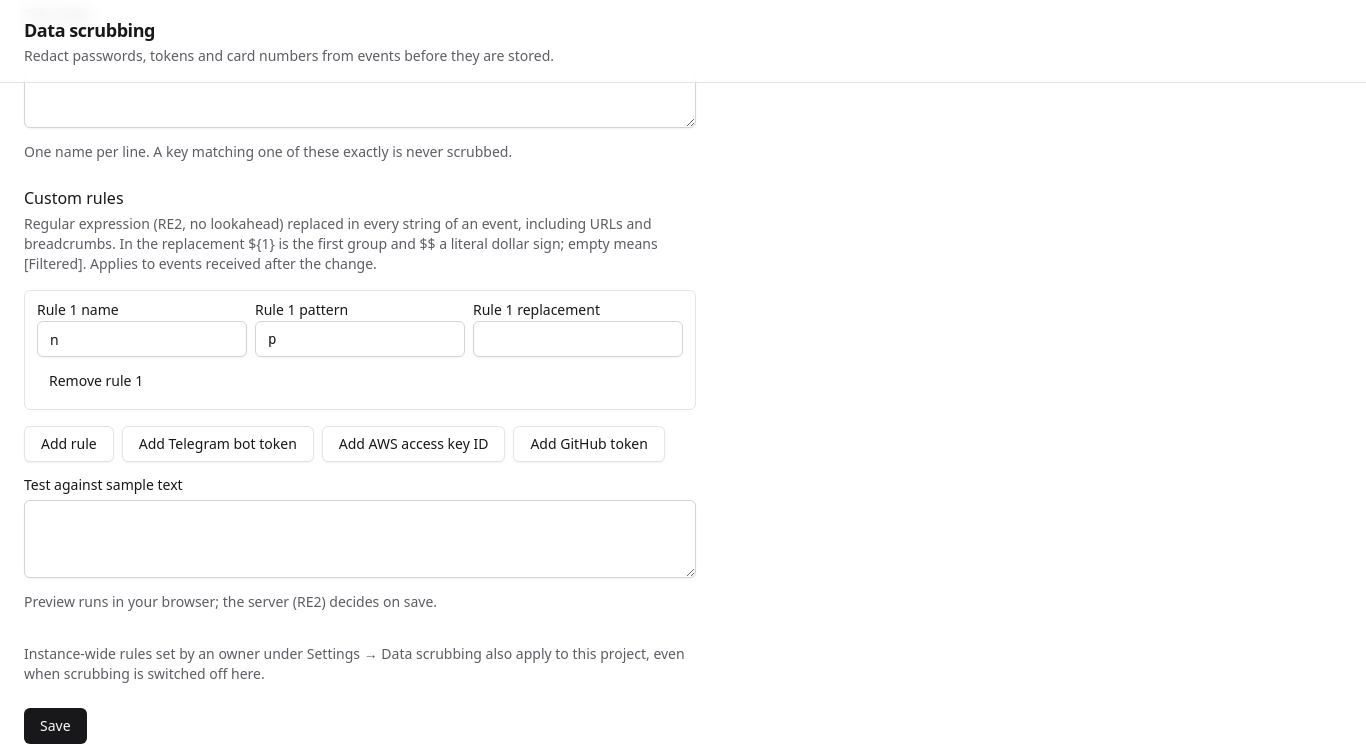
Test: DataScrubbingPage › clears Saved. once a rule is edited
(page scrolled)
Click the button "Save" at (55, 726), box [24, 708, 87, 744]
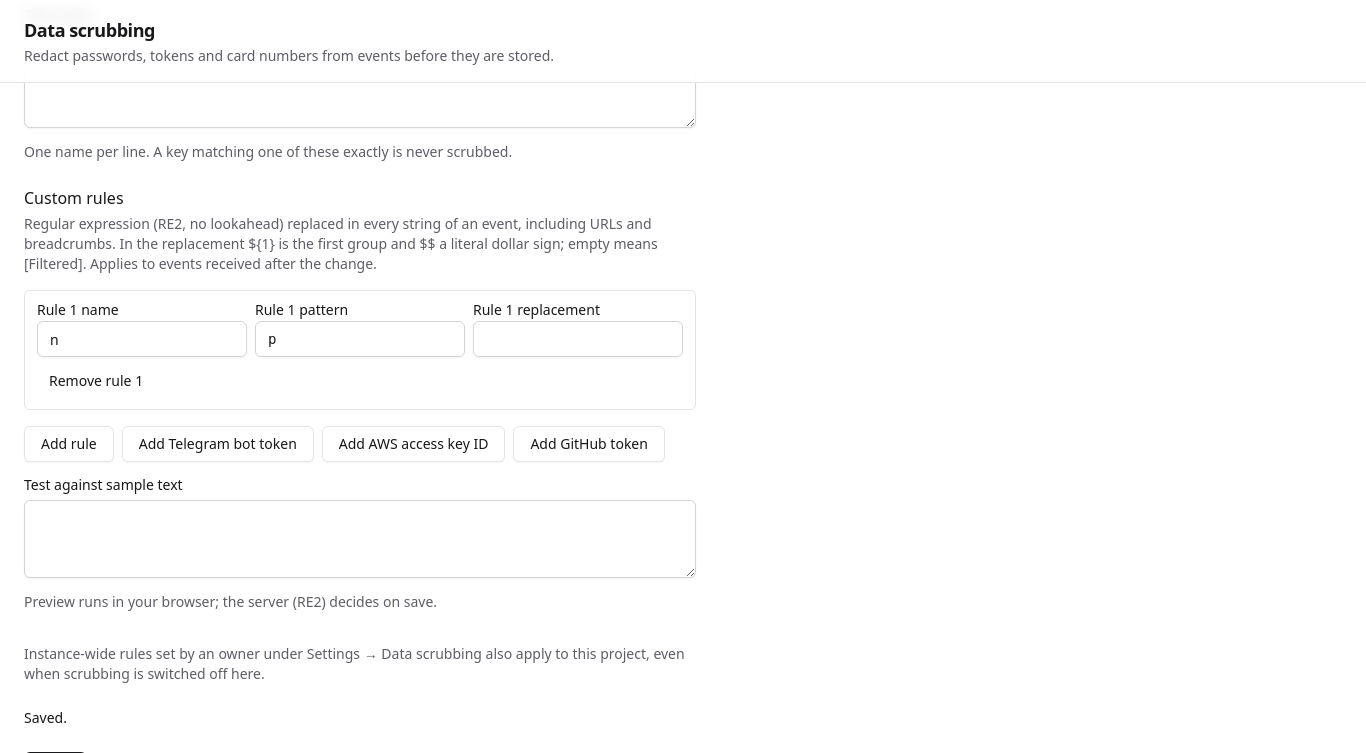
Expected: the text "Saved." is shown, [24, 708, 67, 727]
Replace the text in the field labelled "Rule 1 pattern" with "q" at (360, 339), box [255, 321, 465, 357]
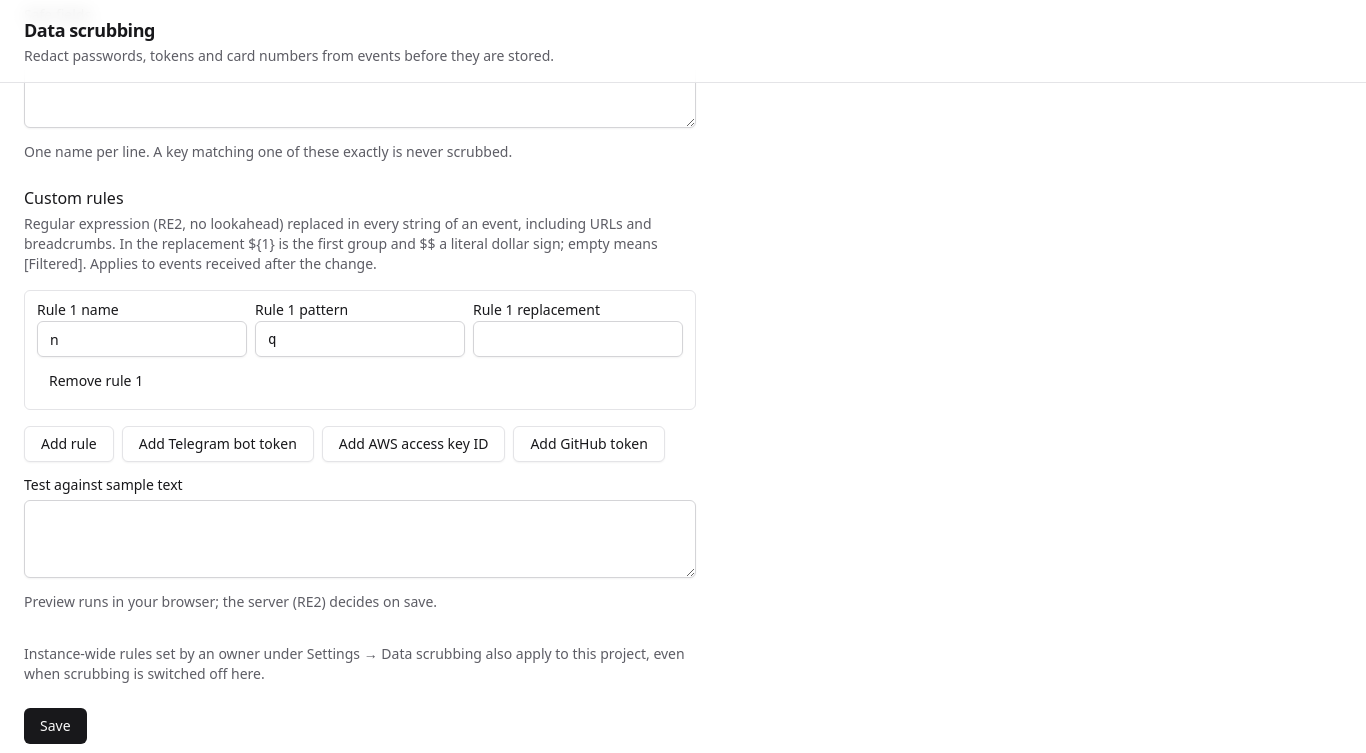
Expected: the text "Saved." is gone
